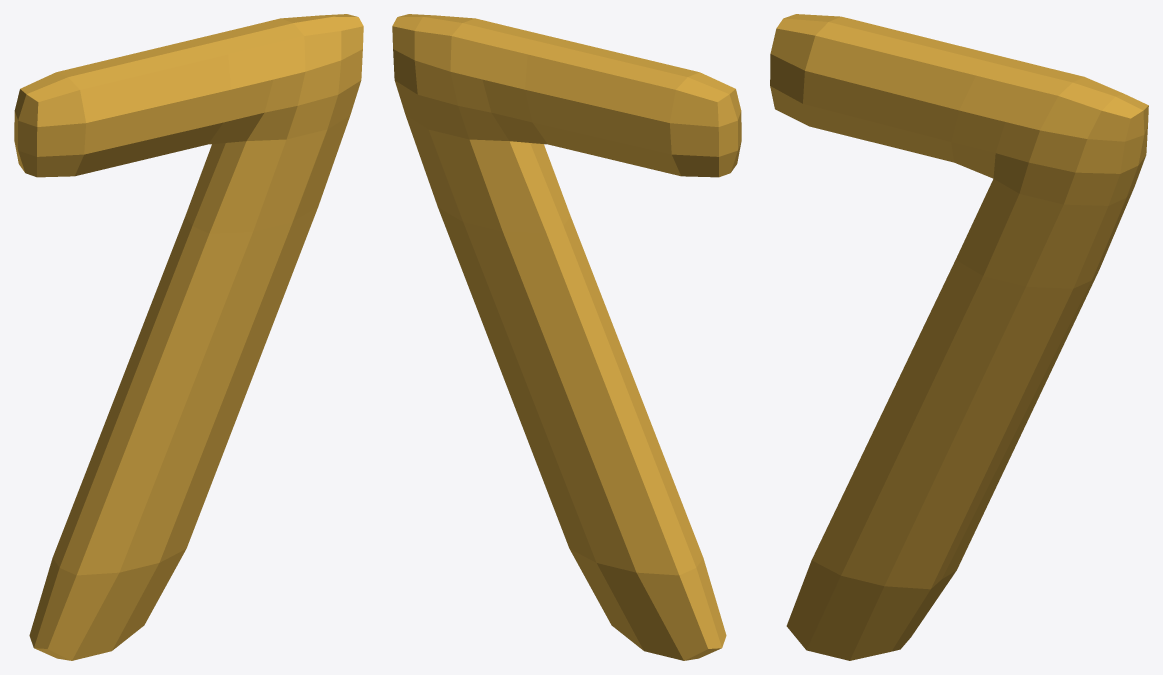
3 views of the same model, side by side, from view 1: azimuth 30°, elevation 25°; view 2: azimuth 150°, elevation 25°; view 3: azimuth 330°, elevation 25° (orthographic). The views are drawn at different scales.
Parts seen in each view (by area): view 1: 7; view 2: 7; view 3: 7.
Boxes of the visible parts, box(x1,y1,x2,y2) form: 7: box(14, 14, 363, 660); 7: box(392, 14, 741, 660); 7: box(770, 14, 1148, 660).
Bounding box in the file's own units: 41.6 × 67.37 × 9.45.
